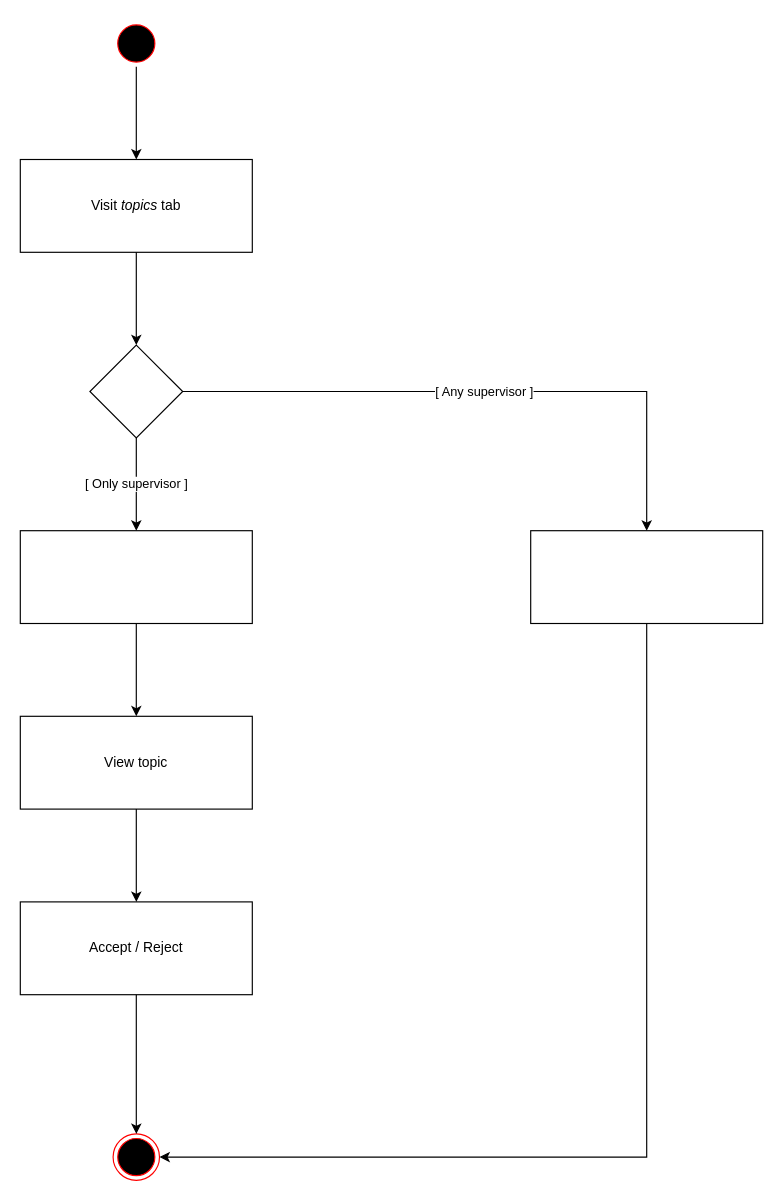
Image size: 783x1201. Some labels were removed from this diagram. Here are the shapes that lost their labels. From the top down, the centre of each, then its label:
At [135,577]: "View incoming topics".
At [646,577]: "View accepted topics".
